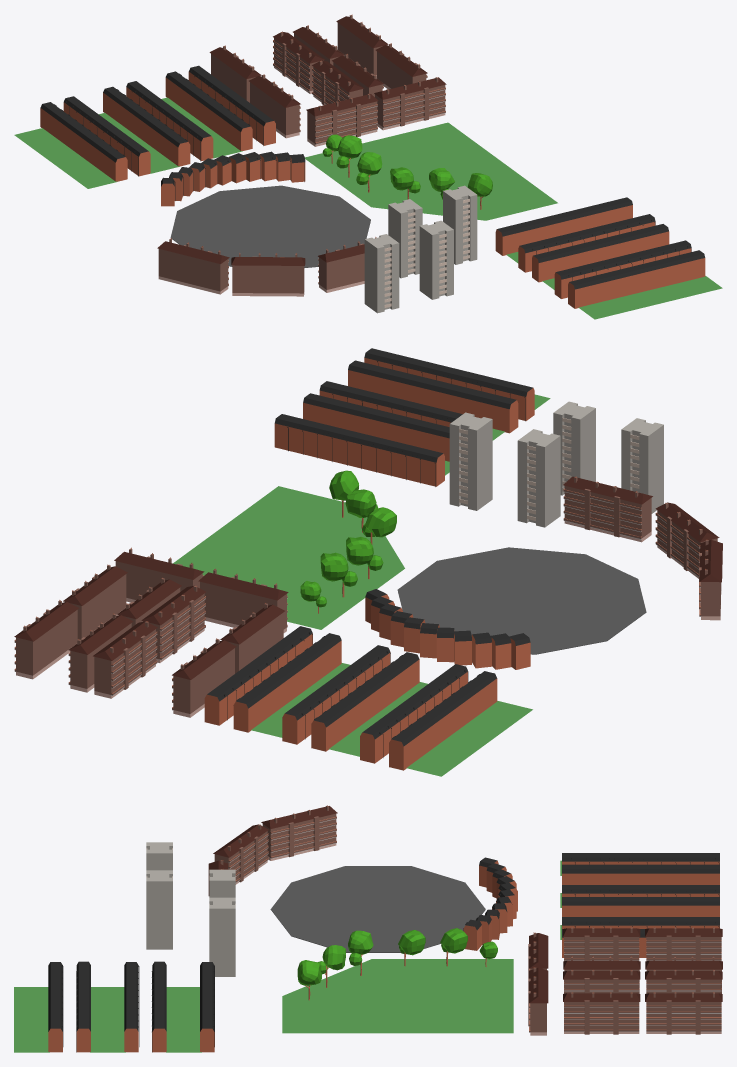
The model's file is background.glb.
The picture shows the model from 3 angles, top to bottom: view 1: azimuth 30°, elevation 25°; view 2: azimuth 150°, elevation 25°; view 3: azimuth 270°, elevation 25°; orthographic projection. The views are drawn at different scales.
Parts seen in each view (by area): view 1: Circle.001, Plane.023, house, house.010, house.012, house.008, llc bLOCK, llc bLOCK.001, house.002, house.004, house.006, llc bLOCK.008 (+27 smaller); view 2: Circle.001, Plane.023, house.012, house, house.011, llc bLOCK.012, house.002, house.004, house.006, house.009, tower block, tower block.001 (+27 smaller); view 3: Plane.023, Circle.001, house.007, house.005, llc bLOCK.011, llc bLOCK.010, llc bLOCK.001, house, llc bLOCK.002, llc bLOCK.003, Plane.026, Plane.024 (+25 smaller).
Part boxes in pixels (x1,y1,x2,y2): Circle.001: [170, 185, 370, 267]; Plane.023: [305, 122, 557, 220]; house: [161, 151, 305, 206]; house.010: [568, 250, 705, 308]; house.012: [495, 197, 632, 255]; house.008: [532, 224, 669, 282]; llc bLOCK: [231, 253, 305, 296]; llc bLOCK.001: [157, 238, 229, 294]; house.002: [165, 71, 252, 150]; house.004: [103, 86, 190, 166]; house.006: [40, 102, 127, 181]; llc bLOCK.008: [374, 77, 446, 130]; Circle.001: [397, 547, 646, 654]; Plane.023: [173, 486, 404, 629]; house.012: [274, 414, 444, 486]; house: [365, 589, 530, 669]; house.011: [348, 360, 518, 433]; llc bLOCK.012: [563, 476, 652, 542]; house.002: [233, 633, 341, 732]; house.004: [311, 652, 419, 751]; house.006: [389, 671, 497, 770]; house.009: [303, 393, 449, 461]; tower block: [517, 429, 560, 527]; tower block.001: [449, 412, 492, 510]; Plane.023: [282, 959, 513, 1033]; Circle.001: [270, 866, 485, 952]; house.007: [562, 864, 719, 884]; house.005: [562, 897, 719, 916]; llc bLOCK.011: [563, 992, 640, 1034]; llc bLOCK.010: [645, 992, 722, 1034]; llc bLOCK.001: [261, 805, 337, 860]; house: [463, 857, 517, 950]; llc bLOCK.002: [645, 927, 722, 961]; llc bLOCK.003: [563, 927, 640, 961]; Plane.026: [14, 987, 49, 1052]; Plane.024: [90, 987, 125, 1052].
Size of what is drawn, in the model's own units: 140 by 21.13 by 197.
